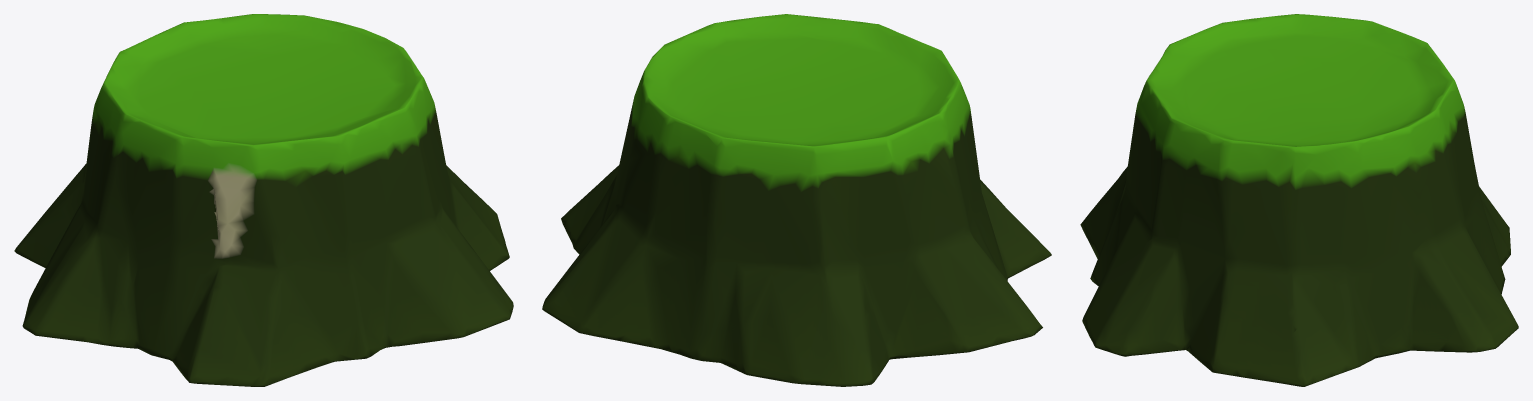
File: gen3d-mossy-stump-lod0.glb
3 renders of one model, left to right at view 1: azimuth 30°, elevation 25°; view 2: azimuth 150°, elevation 25°; view 3: azimuth 270°, elevation 25°, orthographic.
Visible parts, largest first — view 1: part_0; view 2: part_0; view 3: part_0.
Boxes of the visible parts, x1,y1,x2,y2 form: part_0: [14, 14, 513, 386]; part_0: [542, 14, 1051, 386]; part_0: [1080, 14, 1518, 386].
Size of the model in its own units: 2.42 by 0.9999 by 1.96.
